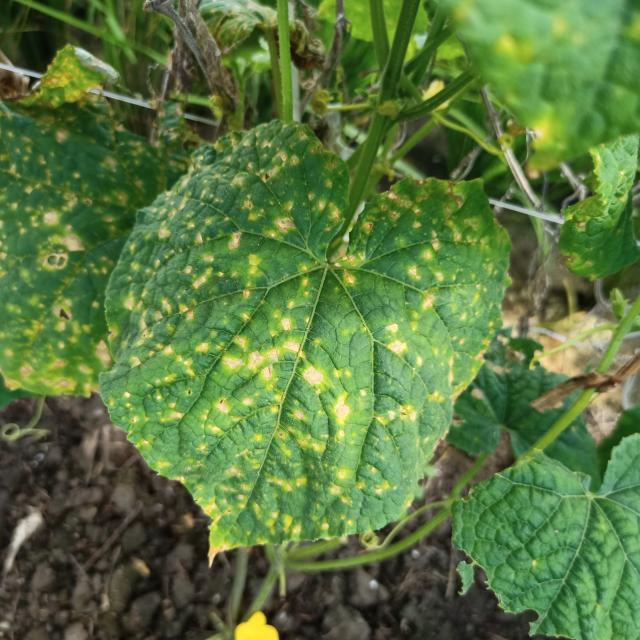disease_cucumber: (108, 124, 505, 547), (0, 93, 181, 398)
